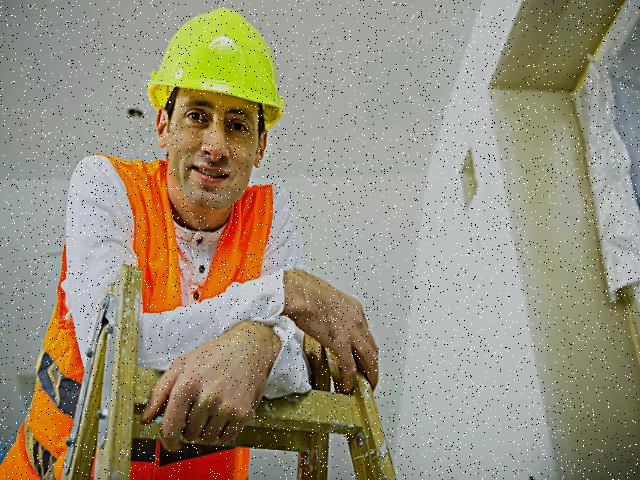Helmet: (143, 0, 290, 132)
